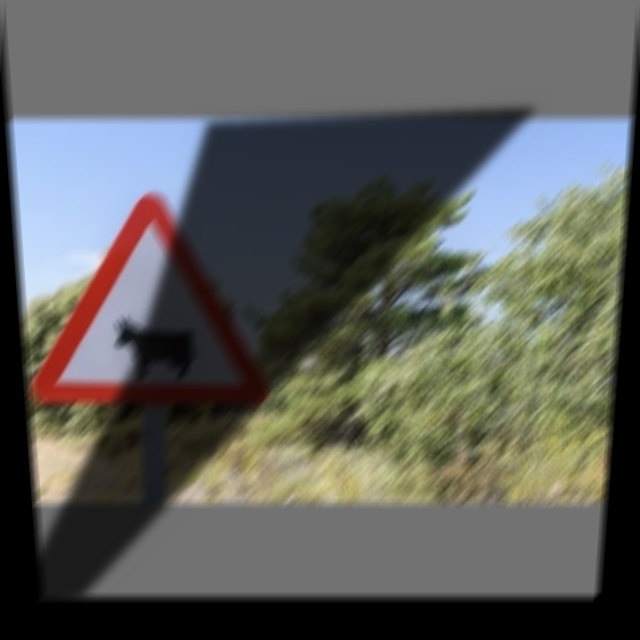Cattle: (49, 204, 257, 405)
